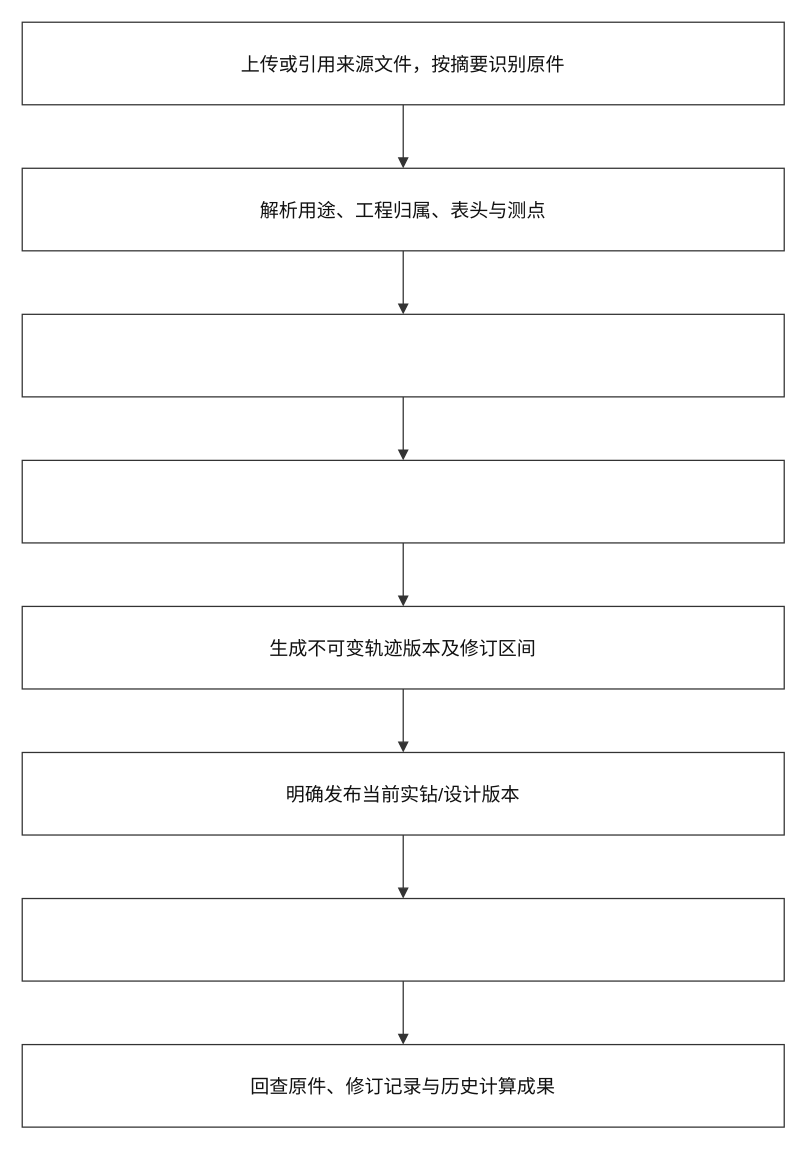
The diagram is 806 pixels wide and 1149 high, and some of its shapes have lost their labels. The shapes that lost their labels are listed below. From the top down, each one's centre as x and y in pixels, then its label:
[402,355]: 人工修改并确认新资料及邻井关系
[402,501]: 选择完整导入、增量续接或复测修订
[402,939]: 任务绑定版本，复用未受影响的扫描区间
